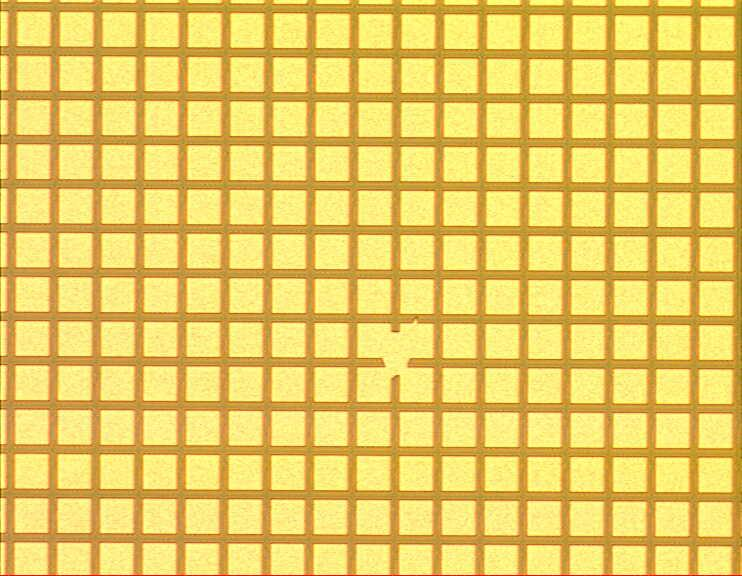BLOCK ETCH: (374, 316, 422, 383)
